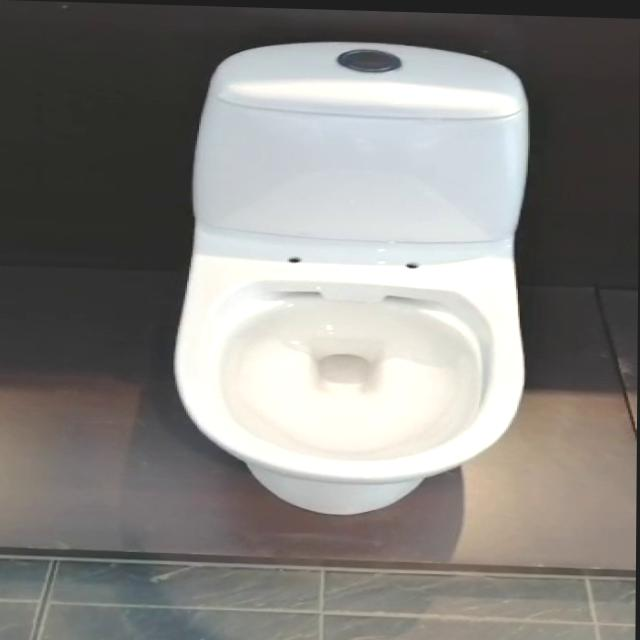toilet: (174, 34, 532, 518)
